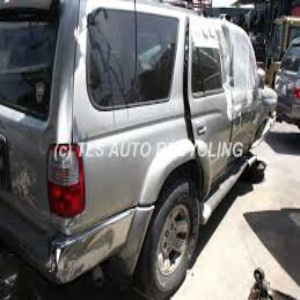bumper: (14, 222, 135, 282)
